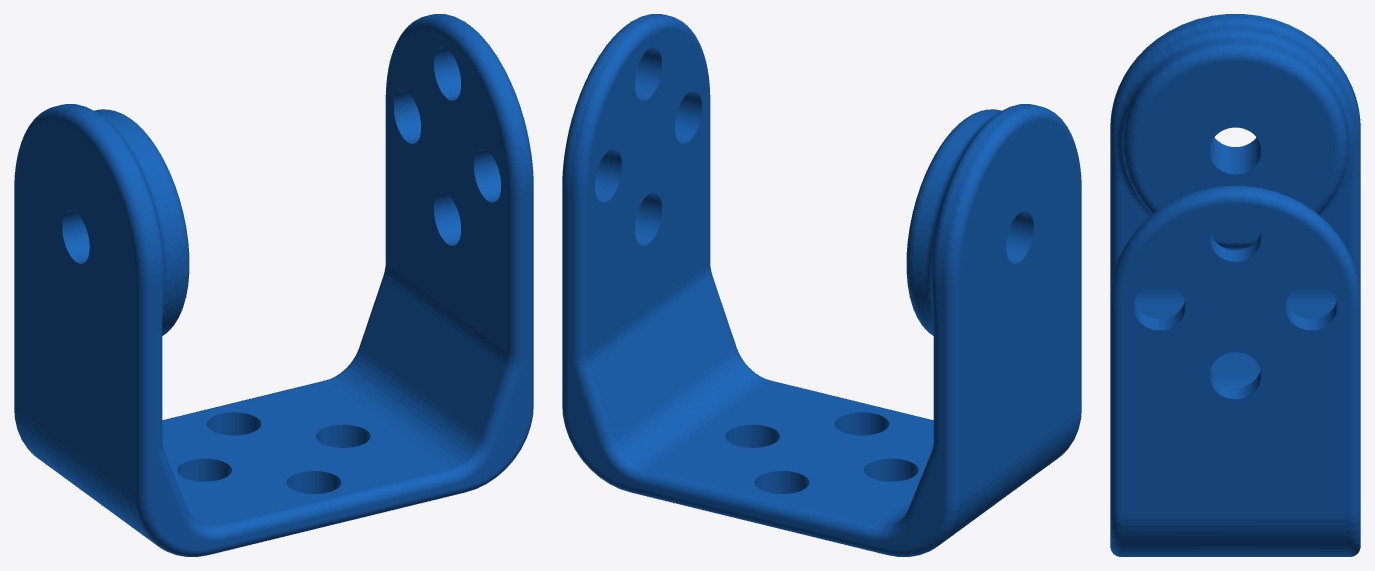
File: long_U.dae
3 renders of one model, left to right at view 1: azimuth 30°, elevation 25°; view 2: azimuth 150°, elevation 25°; view 3: azimuth 270°, elevation 25°, orthographic. The views are drawn at different scales.
Parts seen in each view (by area): view 1: long_U_000_ID2; view 2: long_U_000_ID2; view 3: long_U_000_ID2.
Part boxes in pixels (x1,y1,x2,y2): long_U_000_ID2: (14,14,533,556); long_U_000_ID2: (562,14,1081,556); long_U_000_ID2: (1110,14,1360,556).
Bounding box in the file's own units: 0.0343 × 0.0198 × 0.0339.
